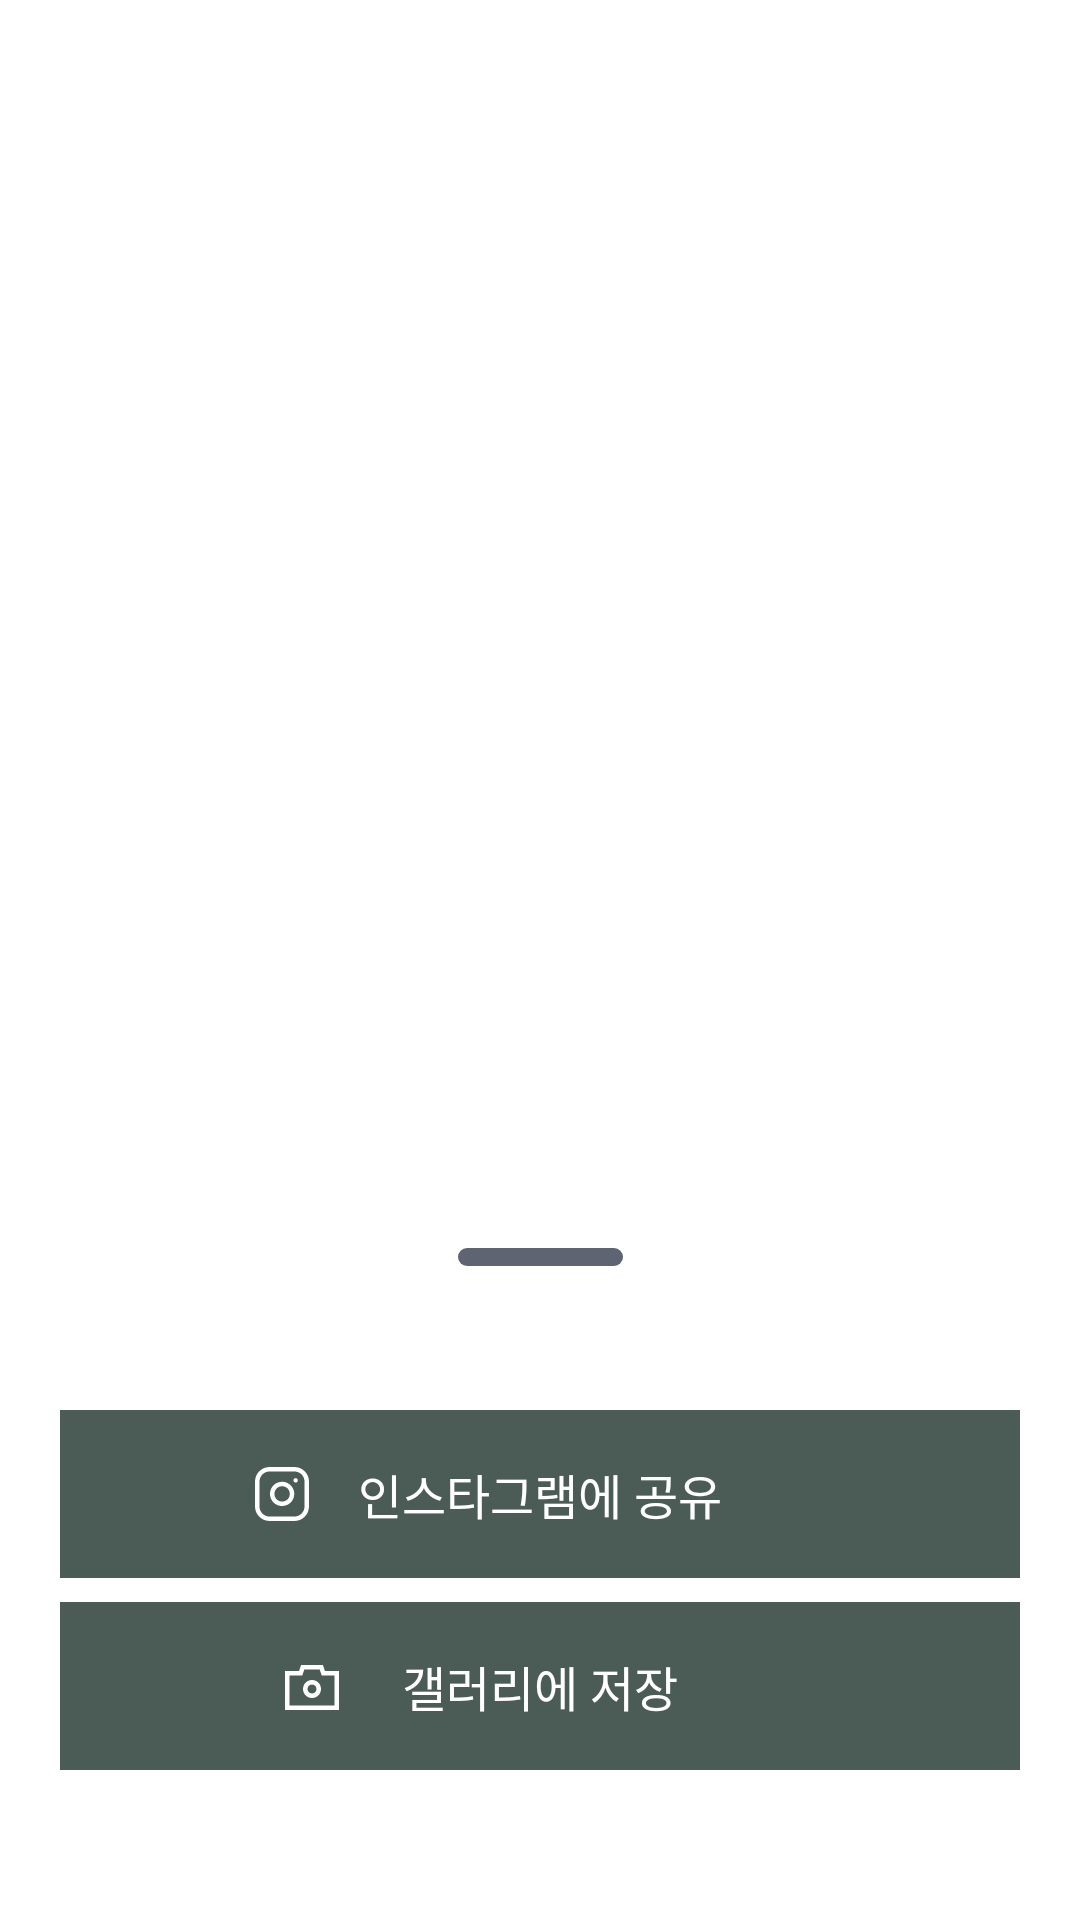

Icon bounding boxes for this 1080*1920 phone screenshot, format box=[x1, y1, x2, y2]:
camera: box=[285, 1665, 339, 1710]
